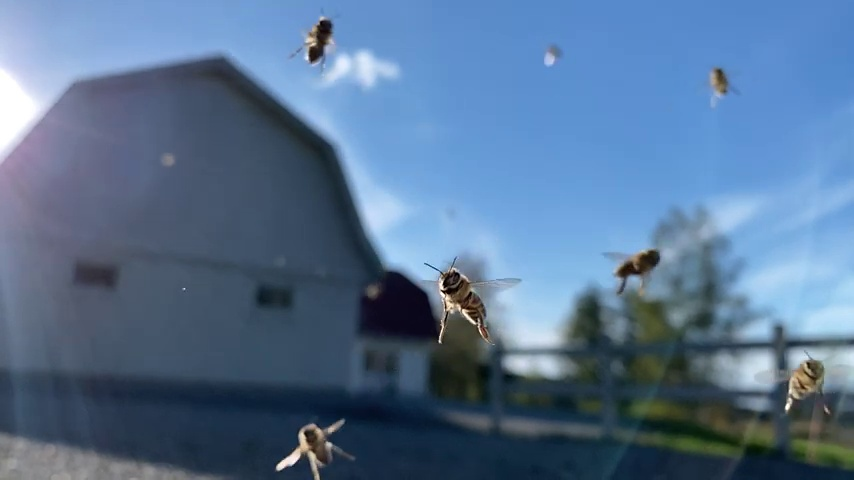insect: (423, 255, 520, 345), (272, 412, 354, 479), (777, 348, 836, 414), (287, 2, 339, 67), (604, 243, 659, 295), (704, 67, 735, 103)
